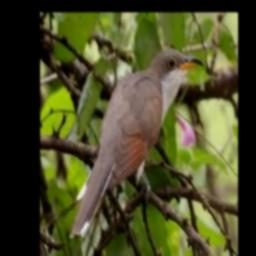Cuckoo: (70, 48, 203, 238)
